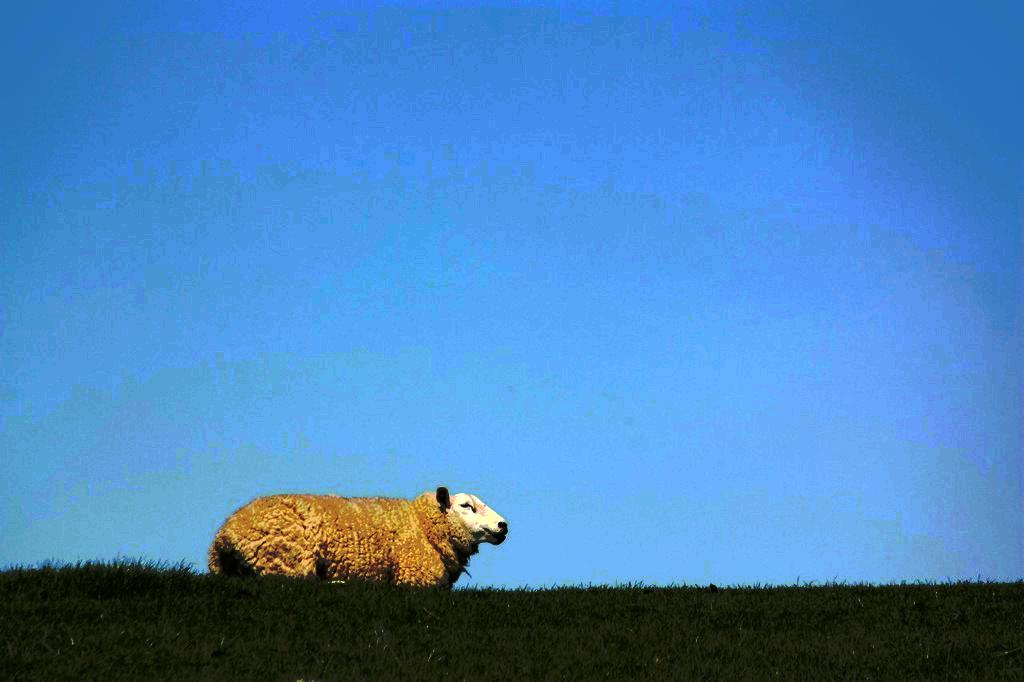Sheep: (212, 482, 513, 588)
